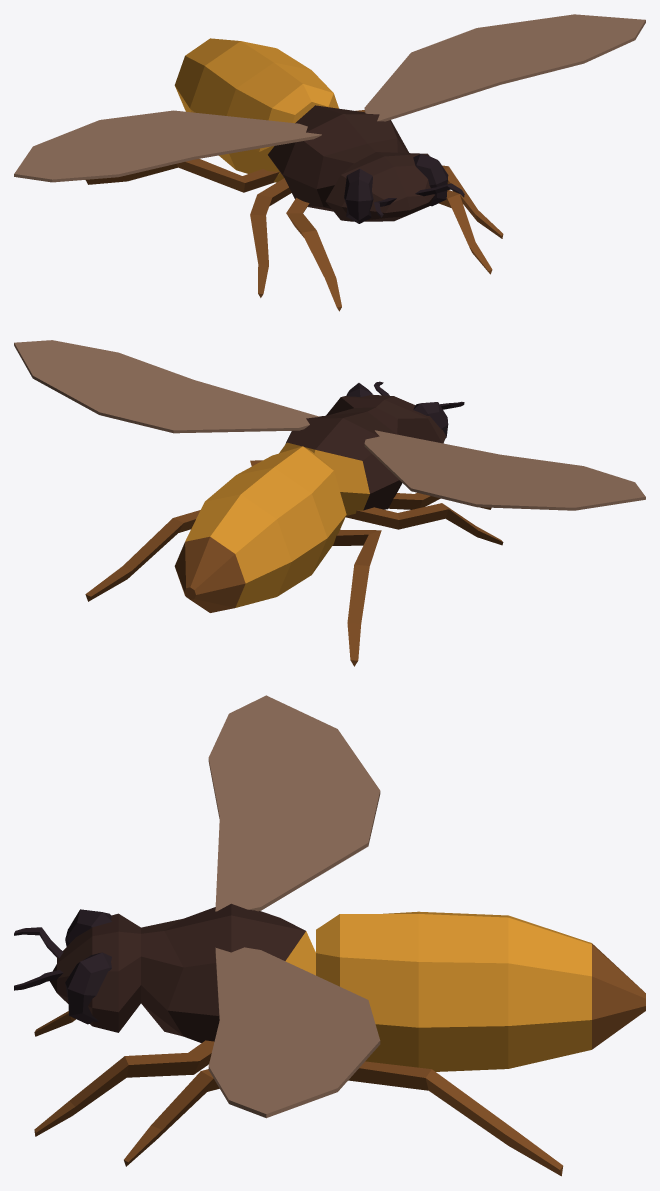
The model's file is Mesh_Bee.obj.
3 views of the same model, one above another, from view 1: azimuth 30°, elevation 25°; view 2: azimuth 150°, elevation 25°; view 3: azimuth 270°, elevation 25° (orthographic). The views are drawn at different scales.
Visible parts, largest first — view 1: Geo_Bee; view 2: Geo_Bee; view 3: Geo_Bee.
Boxes of the visible parts, left/top/right/bottom form: Geo_Bee: left=14, top=14, right=645, bottom=311; Geo_Bee: left=14, top=340, right=645, bottom=666; Geo_Bee: left=14, top=695, right=645, bottom=1176.
Size of the model in its own units: 90.92 by 18.57 by 57.95.
Materials: 2 (1 with a texture image).
